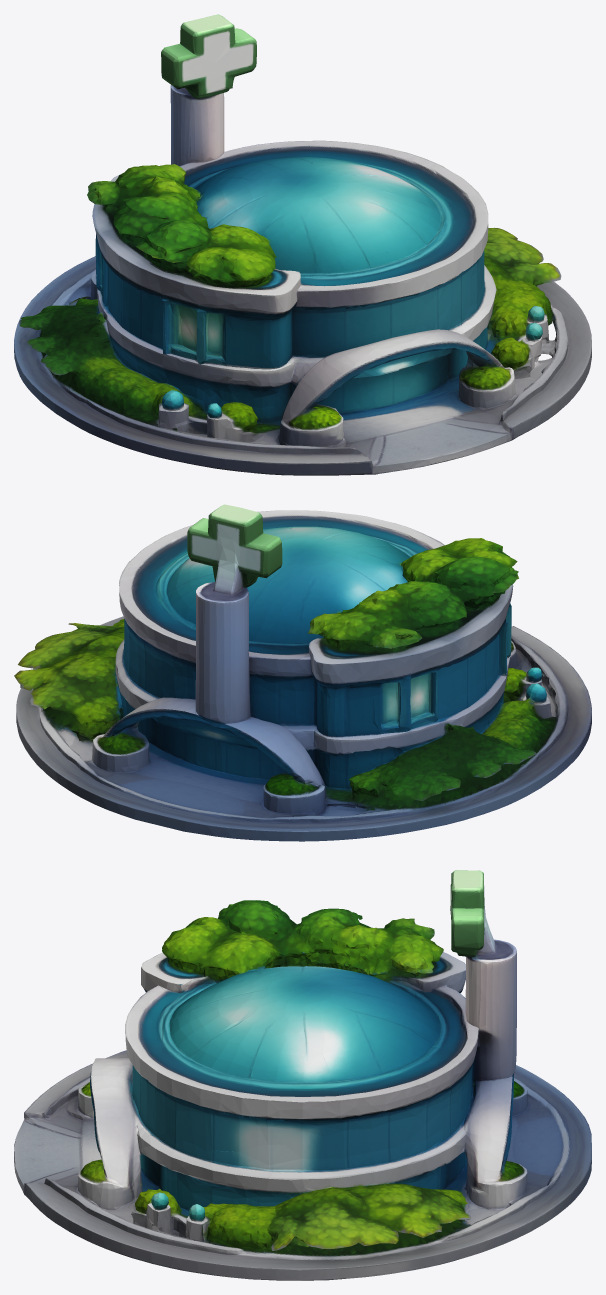
Rendered from hospitals.glb.
The picture shows the model from 3 angles, top to bottom: view 1: azimuth 30°, elevation 25°; view 2: azimuth 150°, elevation 25°; view 3: azimuth 270°, elevation 25°; orthographic projection.
Visible parts, largest first — view 1: world; view 2: world; view 3: world.
Boxes of the visible parts, x1,y1,x2,y2 form: world: [14, 14, 591, 475]; world: [14, 504, 591, 841]; world: [14, 870, 591, 1280].
Bounding box in the file's own units: 1 × 0.5283 × 1.
Materials: 1 (1 with a texture image).
